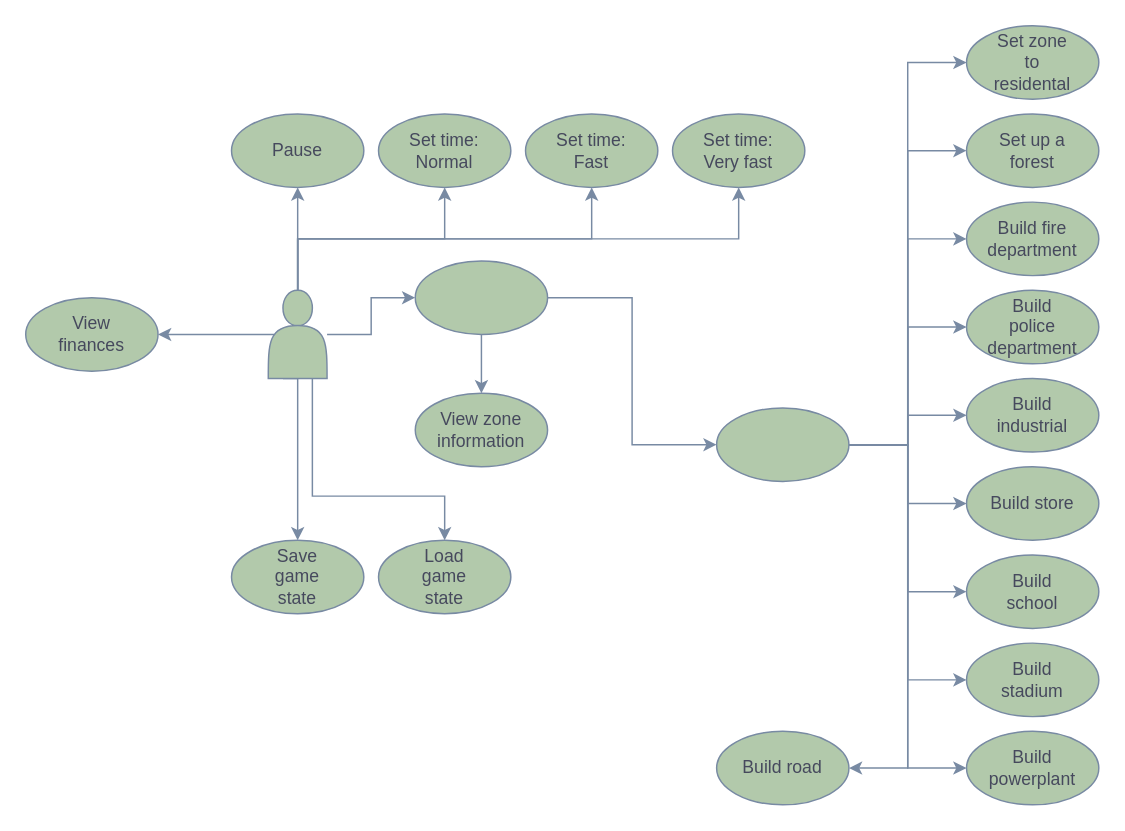
This 1125x831 diagram has some shape labels left out. The shapes that lost their labels are listed below. From the top down, each one's centre as x and y in pixels, then its label:
pixel 481 296: Select zone
pixel 782 443: Change zone
